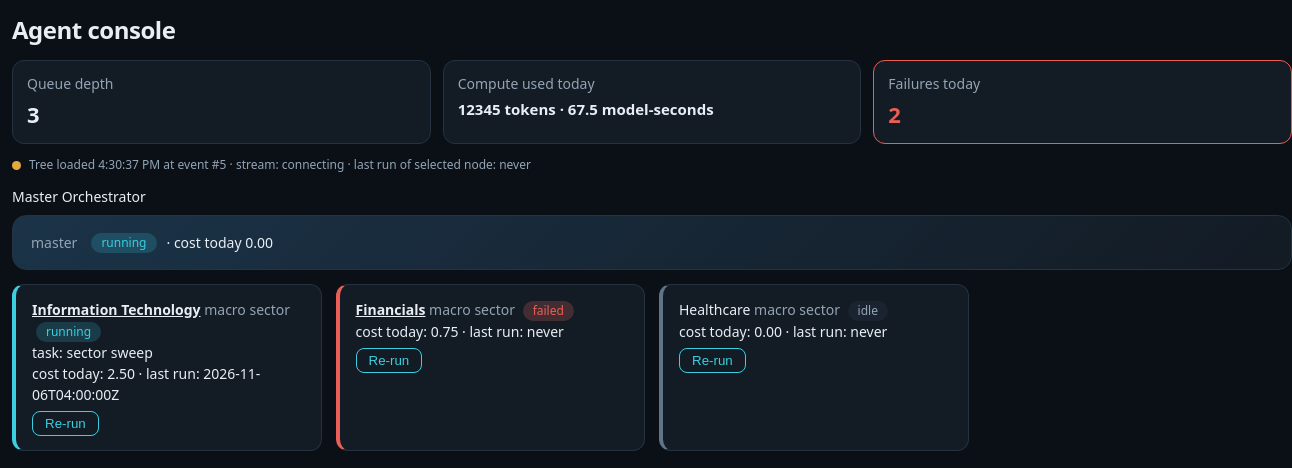
Test: agent console › drill-down recovers when the focused node disappears after a resync
Later steps or results of the test are not shown.
Click the button with aria-label "open Information Technology" at (116, 310), box [32, 299, 201, 320]
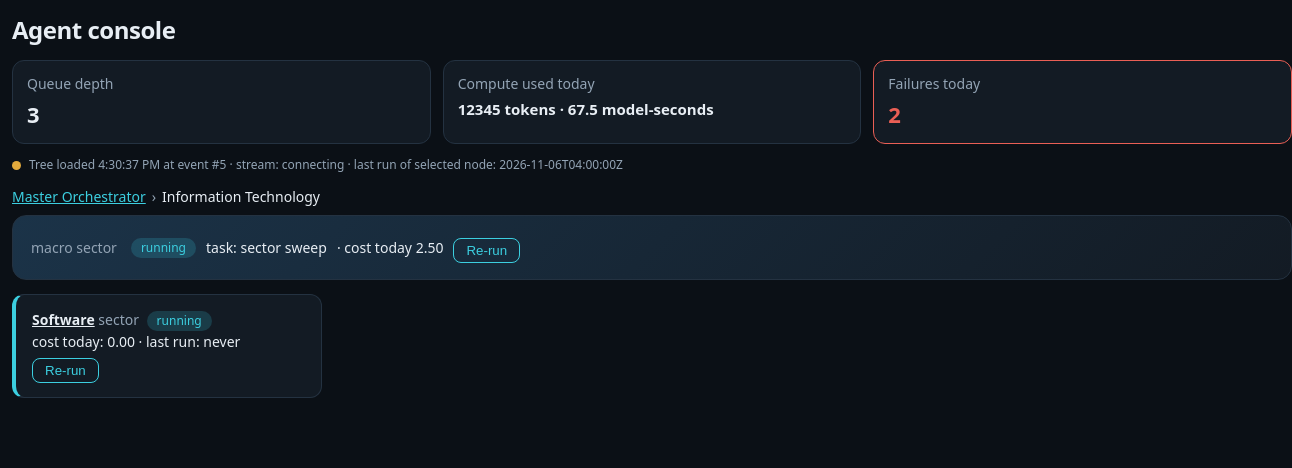
Click the button with aria-label "open Software" at (63, 320), box [32, 309, 95, 330]
Wait 31000 ms
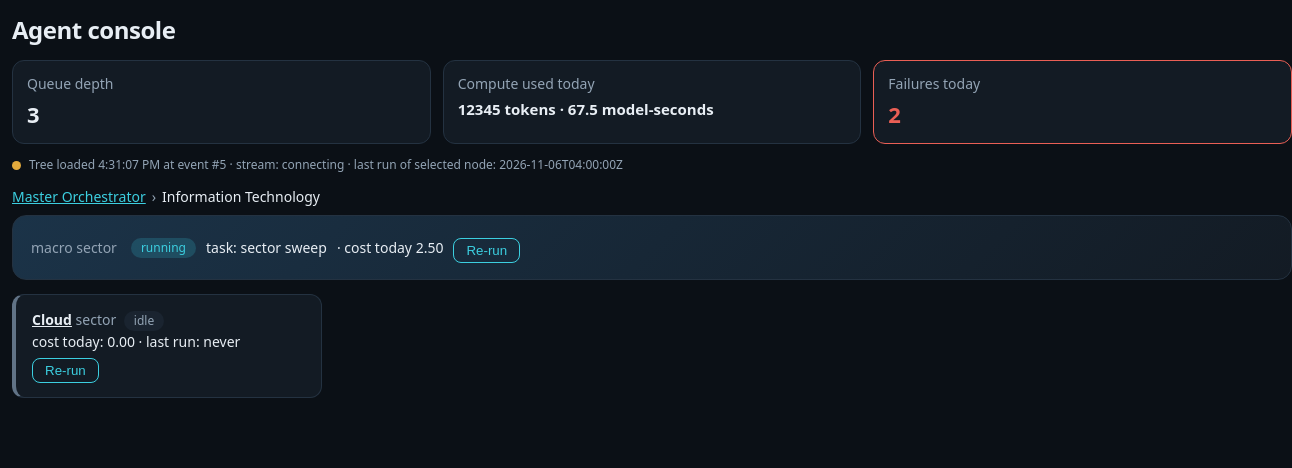
Expected: the text "Information Technology" is shown, [162, 187, 320, 206]
Result: the button "Master Orchestrator" is shown at [12, 186, 146, 207]
Result: the text "Cloud" is shown
// and Open on a visible child works (not stuck on a stale path)
Click the button with aria-label "open Cloud" at (52, 320), box [32, 309, 72, 330]
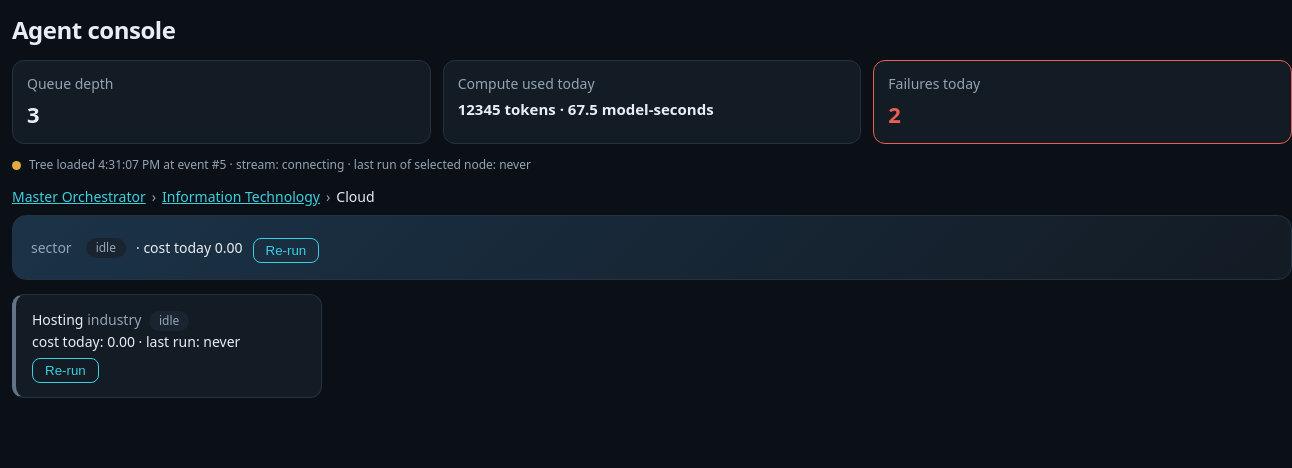
Result: the text "Cloud" is shown at [336, 187, 374, 206]
Result: the text "Hosting" is shown at [32, 310, 84, 329]
